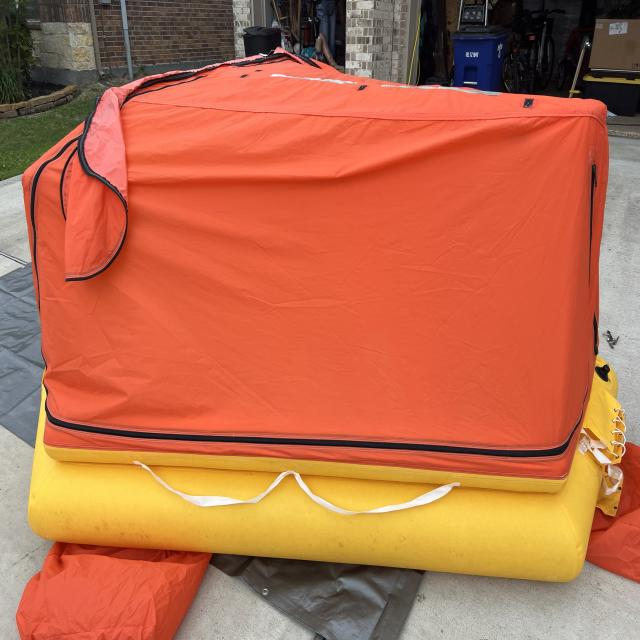Multi-person_life_raft: (17, 45, 640, 639)
